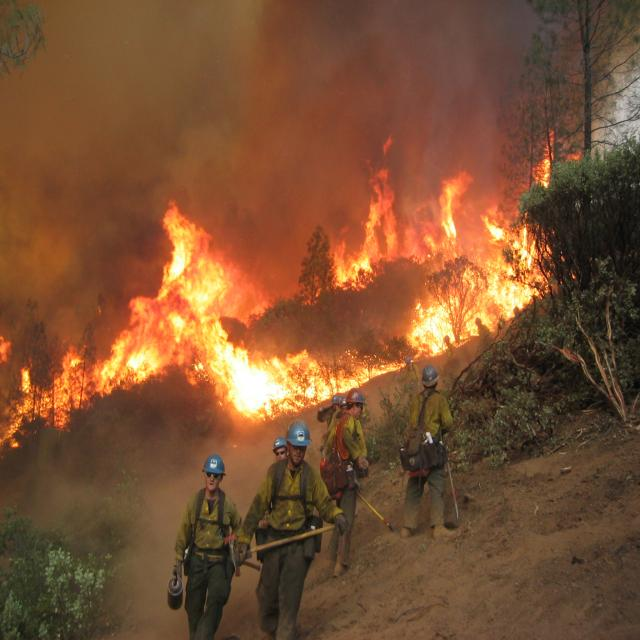Fire: (0, 133, 586, 447)
Smoke: (0, 0, 640, 357)
